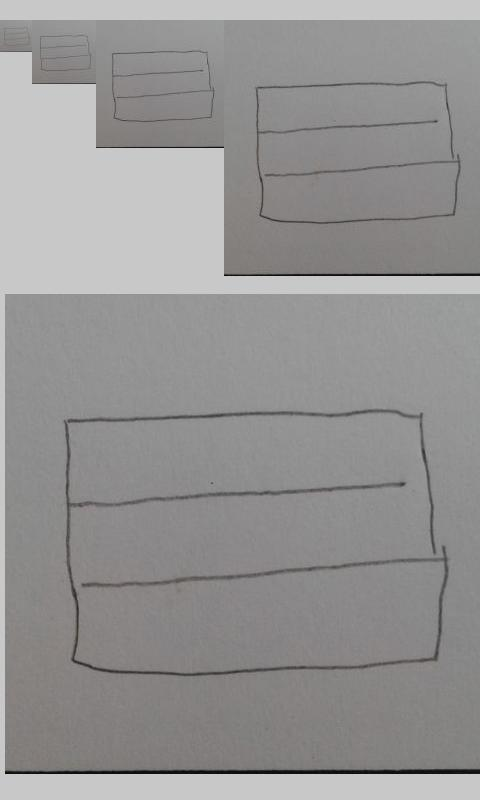list_view: (63, 405, 452, 679), (253, 80, 462, 226), (110, 49, 216, 124), (38, 33, 93, 73), (3, 26, 31, 47)
